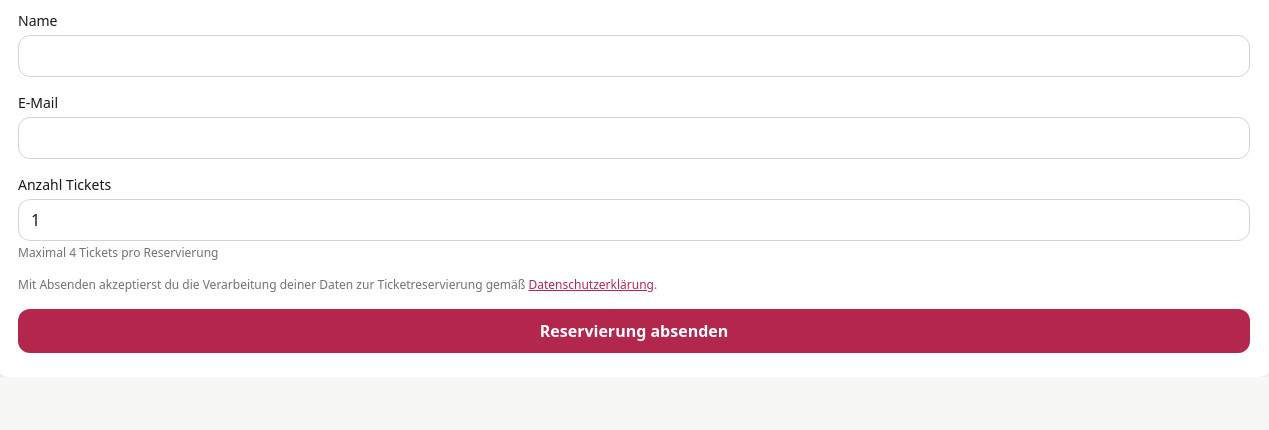
Test: ReservationForm › error state › should show error message on failed submission
Type "Max" into the field labelled "Name" at (634, 56), box [18,35,1250,77]
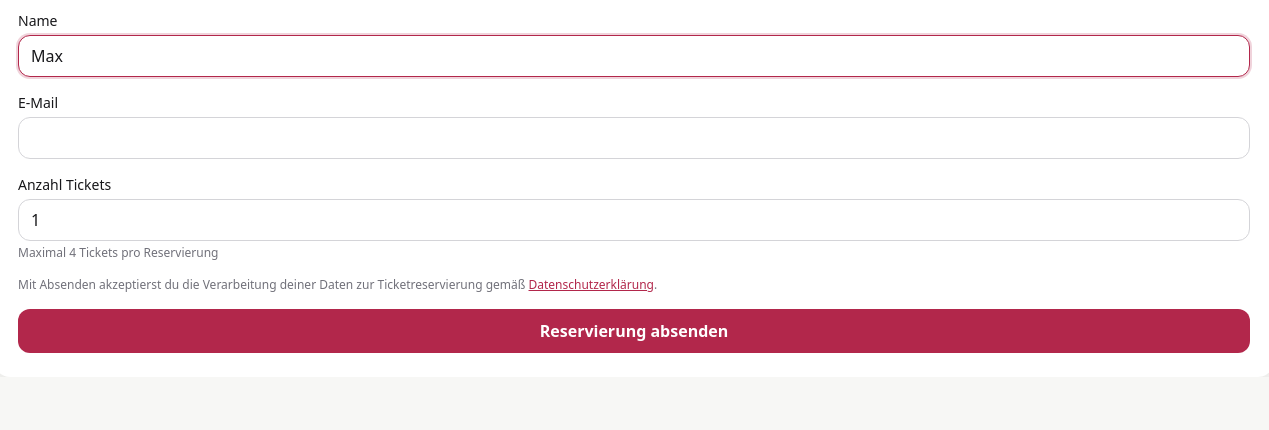
Type "max@example.com" into the field labelled "E-Mail" at (634, 138), box [18,117,1250,159]
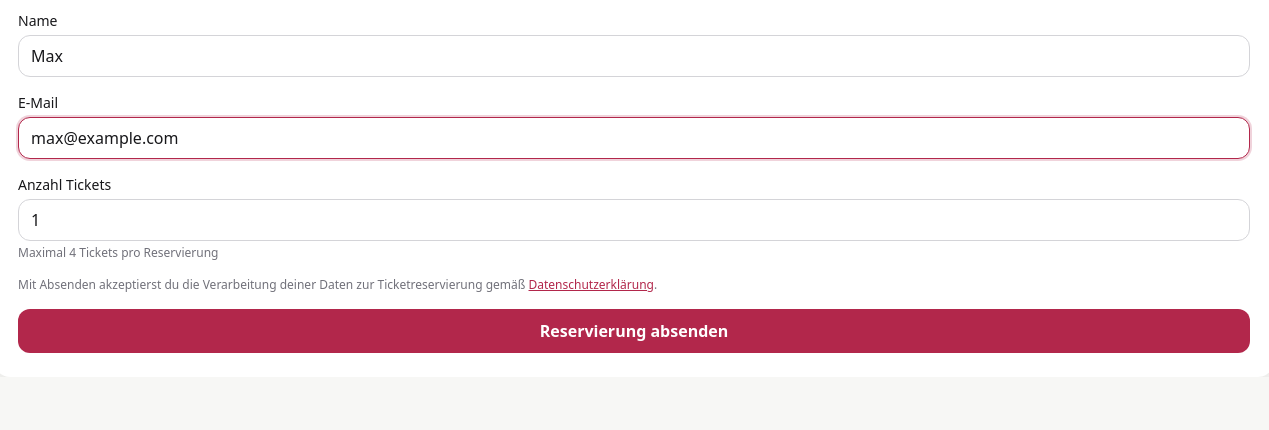
Click the button "Reservierung absenden" at (634, 331), box [18,309,1250,353]
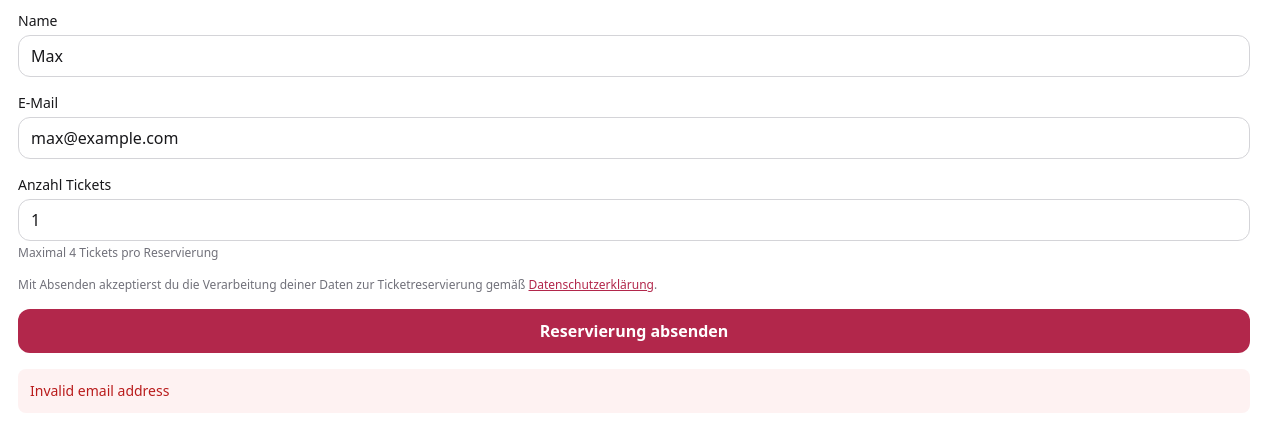
Now the text "Invalid email address" is shown, box [18,369,1250,413]
